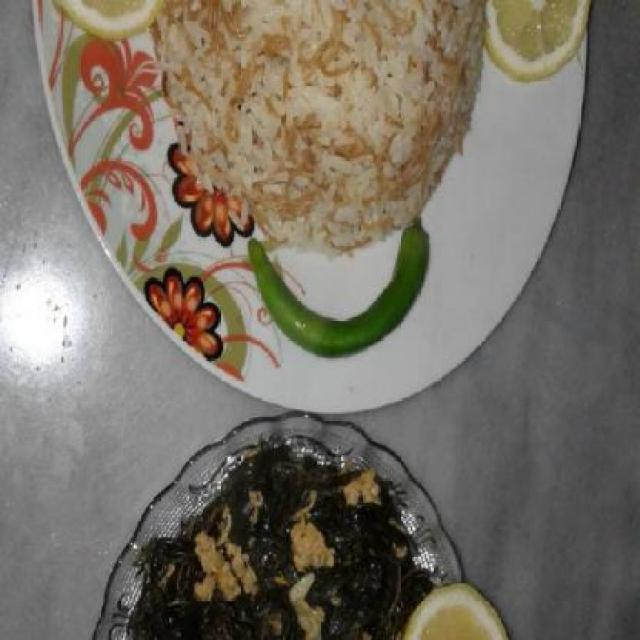molokhia: (119, 432, 444, 638)
